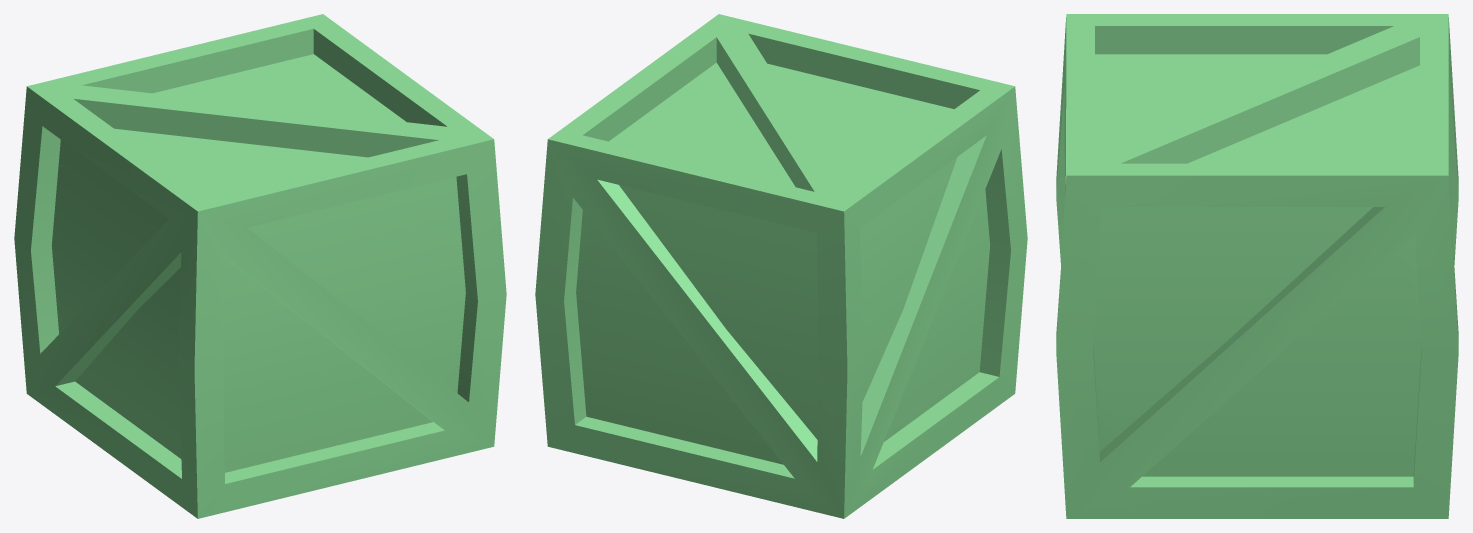
File: Crate.fbx
The picture shows the model from 3 angles, left to right: view 1: azimuth 30°, elevation 25°; view 2: azimuth 150°, elevation 25°; view 3: azimuth 270°, elevation 25°; orthographic projection. The views are drawn at different scales.
Visible parts, largest first — view 1: SM_BasicBox; view 2: SM_BasicBox; view 3: SM_BasicBox.
Boxes of the visible parts, x1,y1,x2,y2 form: SM_BasicBox: (14,14,506,518); SM_BasicBox: (535,14,1027,518); SM_BasicBox: (1056,14,1458,518).
Size of the model in its own units: 0.7671 by 0.7671 by 0.7219.
